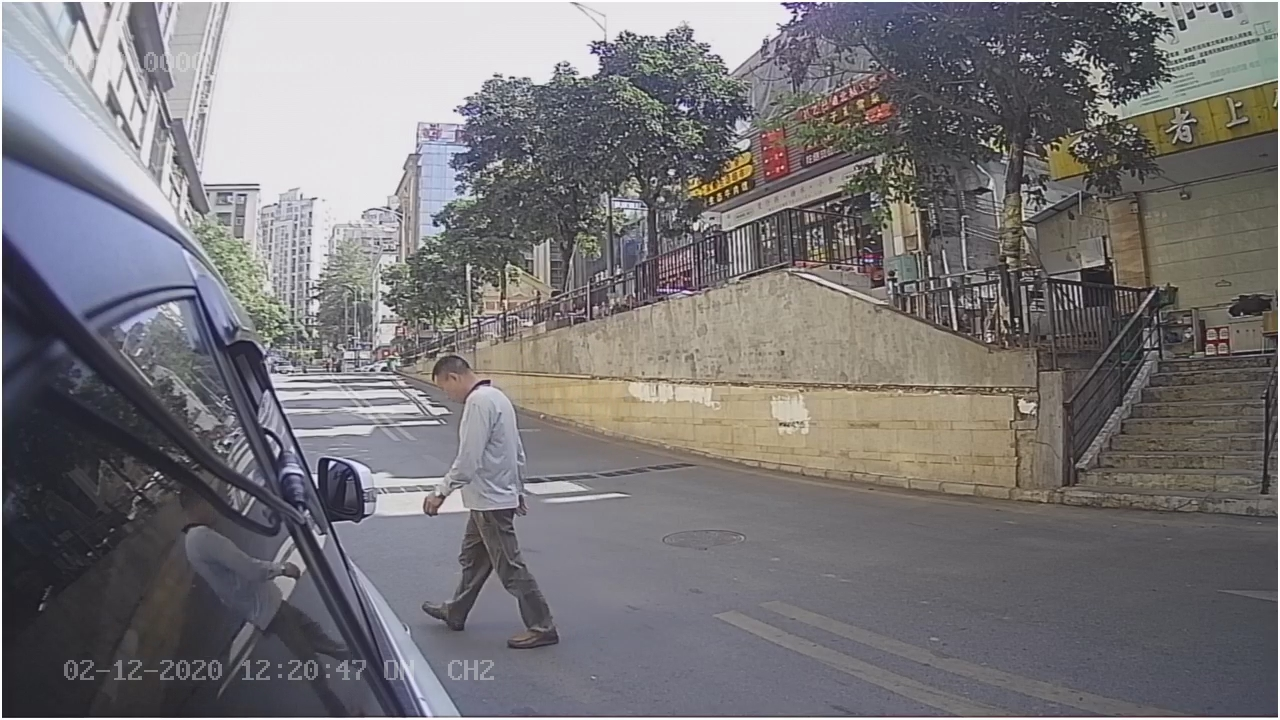person: (419, 346, 570, 648)
